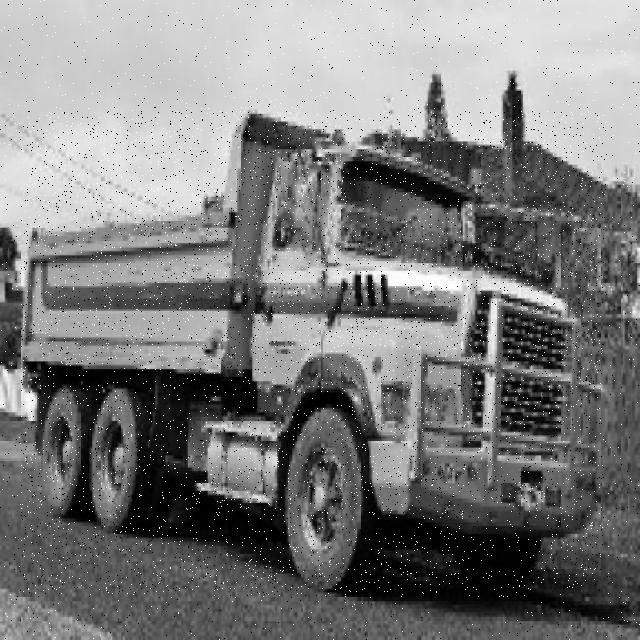Box Truck: (21, 111, 604, 597)
